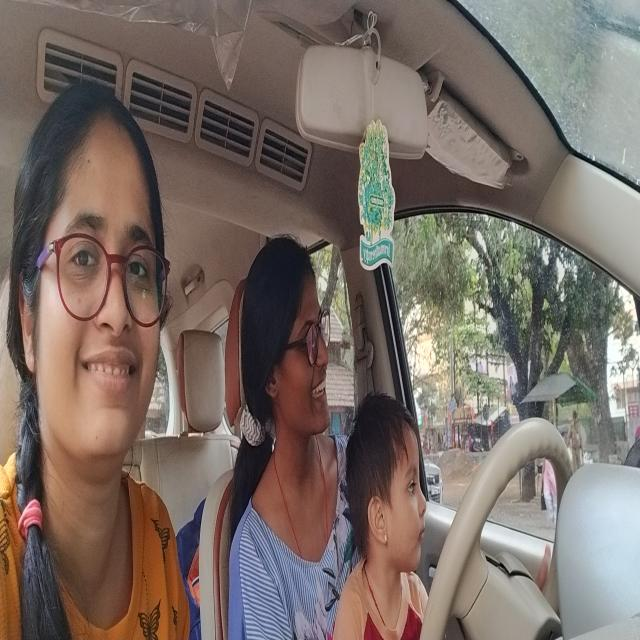child: (345, 379, 436, 604)
person: (10, 72, 182, 500), (238, 226, 338, 474)
